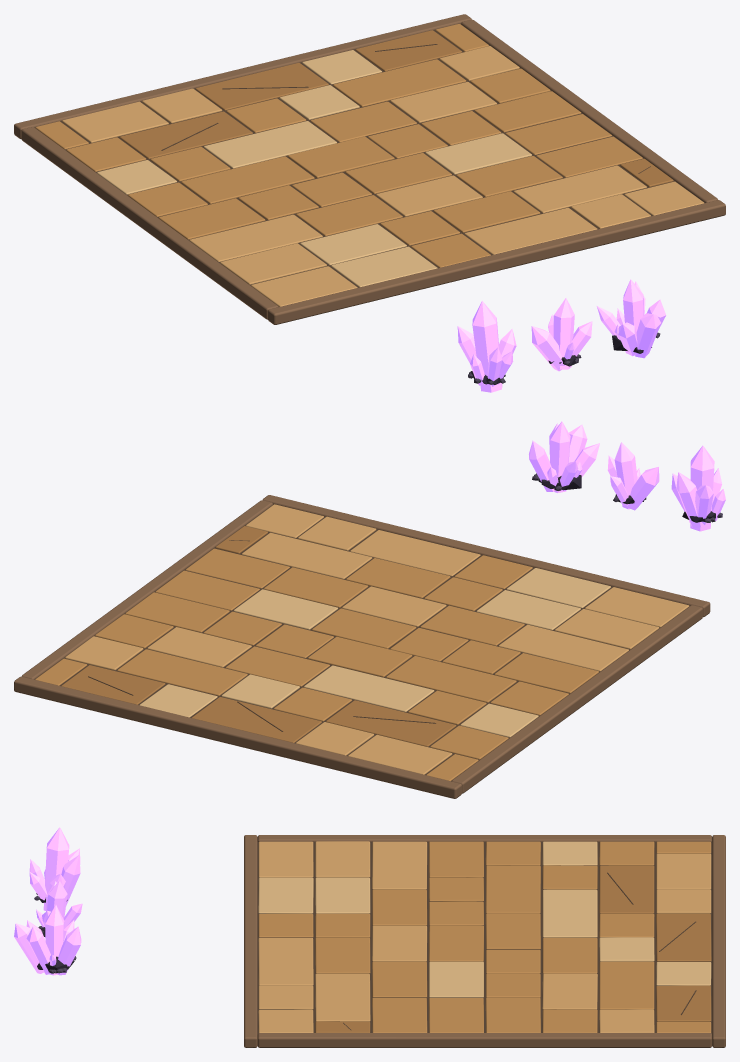
File: SF_Decor.fbx
The picture shows the model from 3 angles, top to bottom: view 1: azimuth 30°, elevation 25°; view 2: azimuth 150°, elevation 25°; view 3: azimuth 270°, elevation 25°; orthographic projection. The views are drawn at different scales.
Parts seen in each view (by area): view 1: PlotFloor__TileB__TileB, PlotFloor__TileA__TileA, PlotFloor__Border__Border, PlotFloor__TileC__TileC, PlotFloor__TileCrack__TileCrack, PlotFloor__Grout__Grout, CrystalA__Shell__CrystalShell, CrystalC__Shell__CrystalShell, CrystalB__Shell__CrystalShell; view 2: PlotFloor__TileB__TileB, PlotFloor__TileA__TileA, PlotFloor__Border__Border, PlotFloor__TileC__TileC, PlotFloor__TileCrack__TileCrack, PlotFloor__Grout__Grout, CrystalC__Shell__CrystalShell, CrystalA__Shell__CrystalShell, CrystalB__Shell__CrystalShell; view 3: PlotFloor__TileB__TileB, PlotFloor__TileA__TileA, PlotFloor__Border__Border, PlotFloor__TileC__TileC, PlotFloor__TileCrack__TileCrack, PlotFloor__Grout__Grout, CrystalC__Shell__CrystalShell, CrystalA__Shell__CrystalShell, CrystalB__Shell__CrystalShell.
Part boxes in pixels (x1,y1,x2,y2): PlotFloor__TileB__TileB: (35, 24, 642, 267); PlotFloor__TileA__TileA: (62, 46, 703, 306); PlotFloor__Border__Border: (14, 14, 725, 324); PlotFloor__TileC__TileC: (97, 50, 531, 287); PlotFloor__TileCrack__TileCrack: (119, 30, 673, 186); PlotFloor__Grout__Grout: (34, 23, 704, 306); CrystalA__Shell__CrystalShell: (457, 301, 516, 392); CrystalC__Shell__CrystalShell: (597, 279, 666, 358); CrystalB__Shell__CrystalShell: (531, 298, 592, 371); PlotFloor__TileB__TileB: (35, 548, 598, 781); PlotFloor__TileA__TileA: (65, 504, 689, 774); PlotFloor__Border__Border: (14, 495, 710, 798); PlotFloor__TileC__TileC: (139, 568, 610, 737); PlotFloor__TileCrack__TileCrack: (61, 526, 456, 746); PlotFloor__Grout__Grout: (34, 504, 689, 781); CrystalC__Shell__CrystalShell: (529, 421, 599, 492); CrystalA__Shell__CrystalShell: (671, 445, 725, 531); CrystalB__Shell__CrystalShell: (607, 442, 659, 510); PlotFloor__TileB__TileB: (258, 841, 711, 1032); PlotFloor__TileA__TileA: (258, 841, 711, 1032); PlotFloor__Border__Border: (244, 835, 725, 1047); PlotFloor__TileC__TileC: (258, 841, 711, 997); PlotFloor__TileCrack__TileCrack: (315, 865, 711, 1032); PlotFloor__Grout__Grout: (257, 842, 712, 1034); CrystalC__Shell__CrystalShell: (14, 905, 81, 975); CrystalA__Shell__CrystalShell: (29, 827, 80, 910); CrystalB__Shell__CrystalShell: (36, 881, 82, 937).
Size of the model in its own units: 56 by 10.3 by 82.7.
